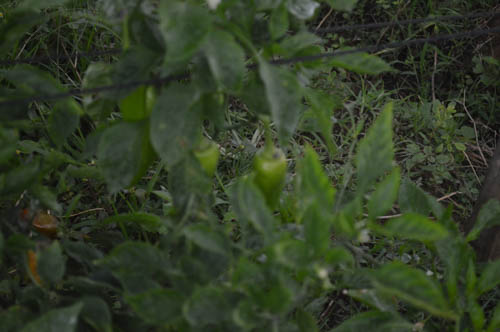ChiliPepper: (246, 149, 287, 205), (190, 143, 221, 174)
